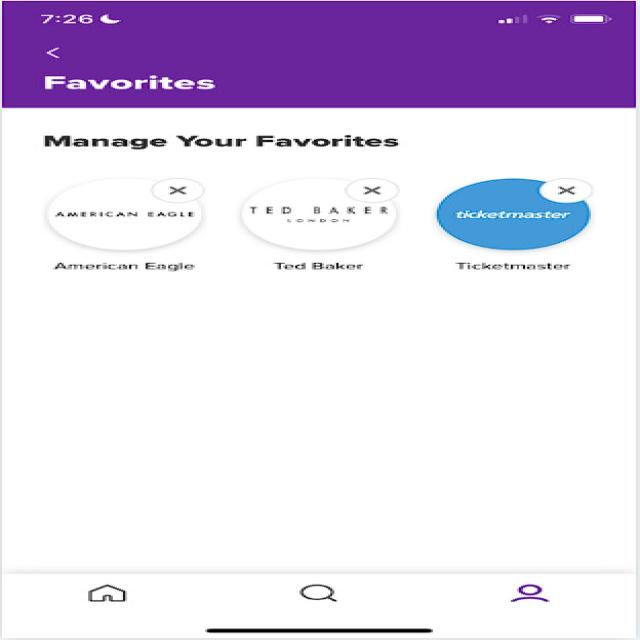icon button: (528, 173, 605, 209), (493, 580, 577, 610), (144, 172, 211, 209), (284, 577, 356, 611), (338, 174, 410, 207), (80, 574, 138, 608), (33, 36, 80, 66)
spacer: (21, 293, 612, 560)
text: (15, 124, 441, 154), (24, 72, 235, 96)
view: (15, 162, 235, 279), (235, 161, 432, 280), (434, 159, 626, 281)
